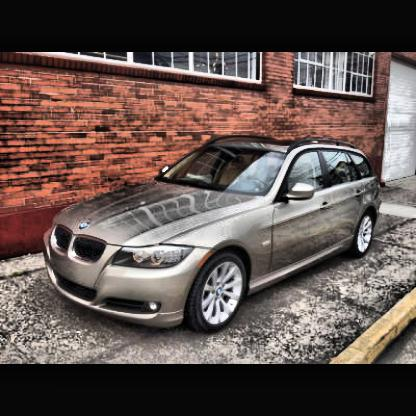BMW 3 Series Wagon 2012: (44, 136, 386, 337)
